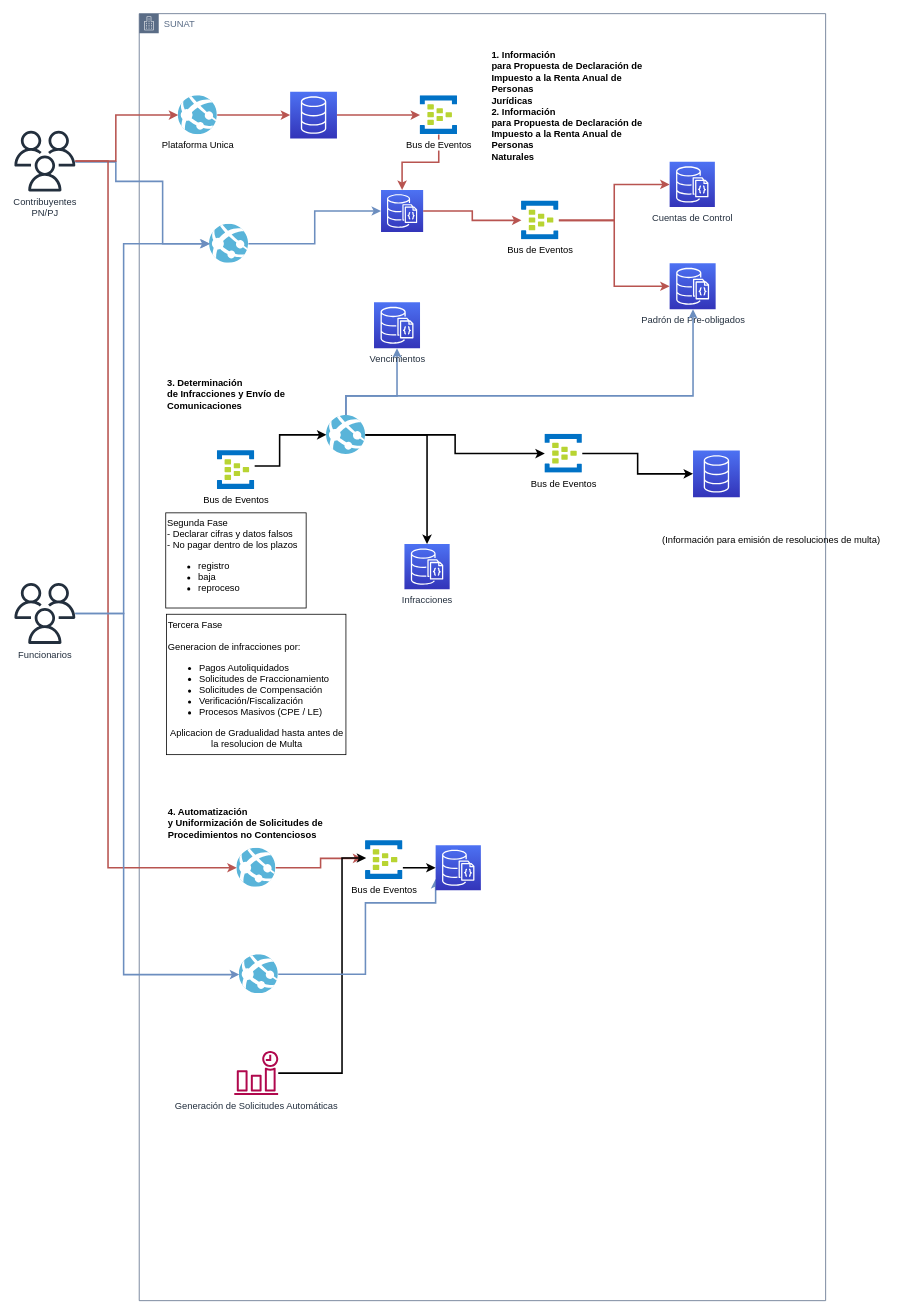
Image size: 902x1314. Some labels were removed from this diagram. Each missing label, with the centre of its shape:
Consulta Cuentas Acumulacion: the point at 228,243
Cuentas de Acumulación PN PJ: the point at 401,210
Declaraciones y Pagos: the point at 313,114
Infracciones (informix): the point at 716,473
Modulo de Gestión de Solicitudes: the point at 255,867
Modulo de Infracciones: the point at 345,434
Modulo de Modificación de Datos (Consulta de Solicitudes): the point at 258,973
Solicitudes NoContenciosos: the point at 458,867
